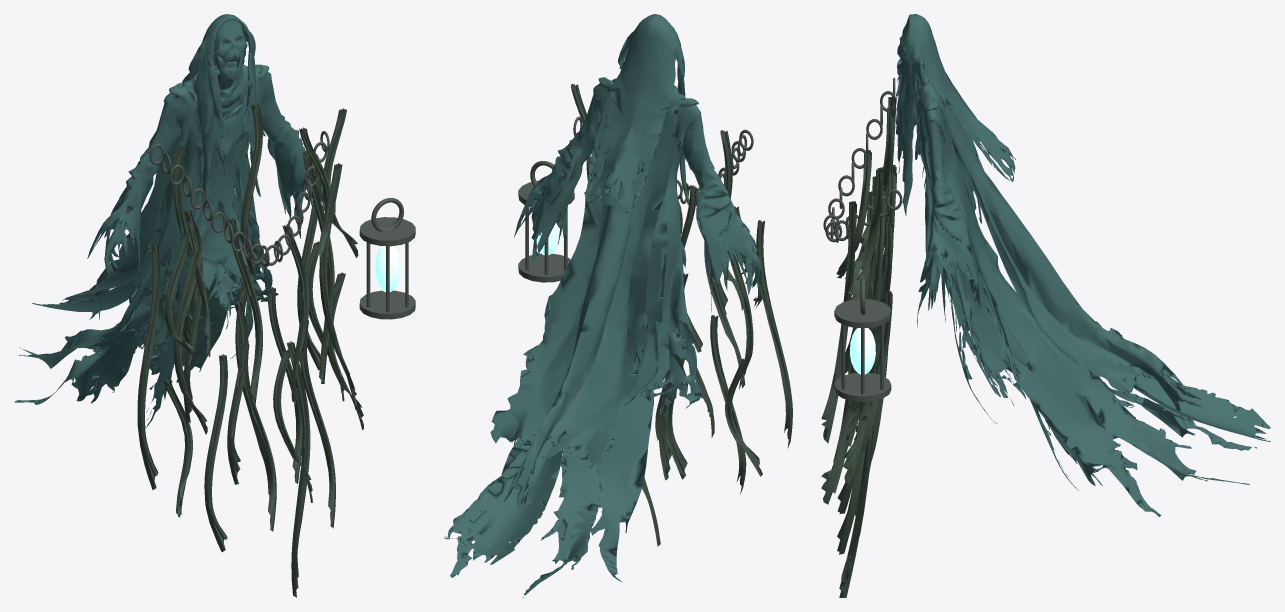
The model's file is 05-the-drowned-bog.glb.
The picture shows the model from 3 angles, left to right: view 1: azimuth 30°, elevation 25°; view 2: azimuth 150°, elevation 25°; view 3: azimuth 270°, elevation 25°; orthographic projection.
Visible parts, largest first — view 1: sculpt (×5); view 2: sculpt (×4); view 3: sculpt (×5).
Boxes of the visible parts, box(x1,y1,x2,y2) form: sculpt (×5): box(14, 14, 415, 597); sculpt (×4): box(444, 14, 792, 597); sculpt (×5): box(821, 14, 1270, 597).
Bounding box in the file's own units: 2.06 × 4 × 2.88.
